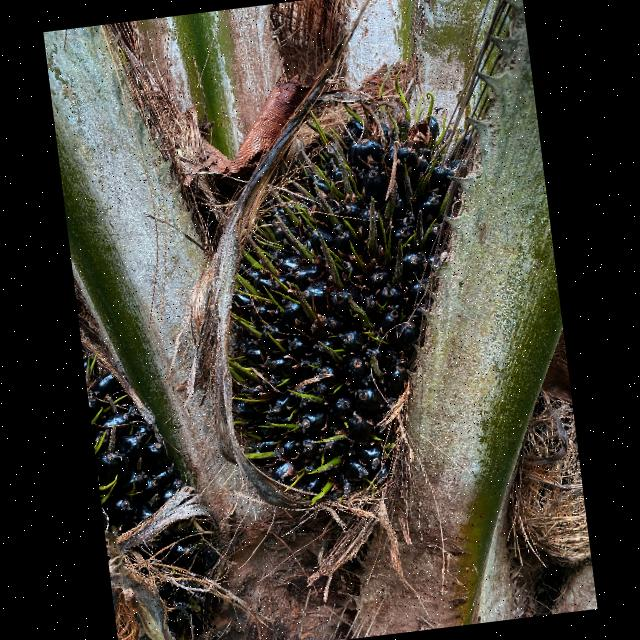Unripe: (226, 110, 462, 496)
